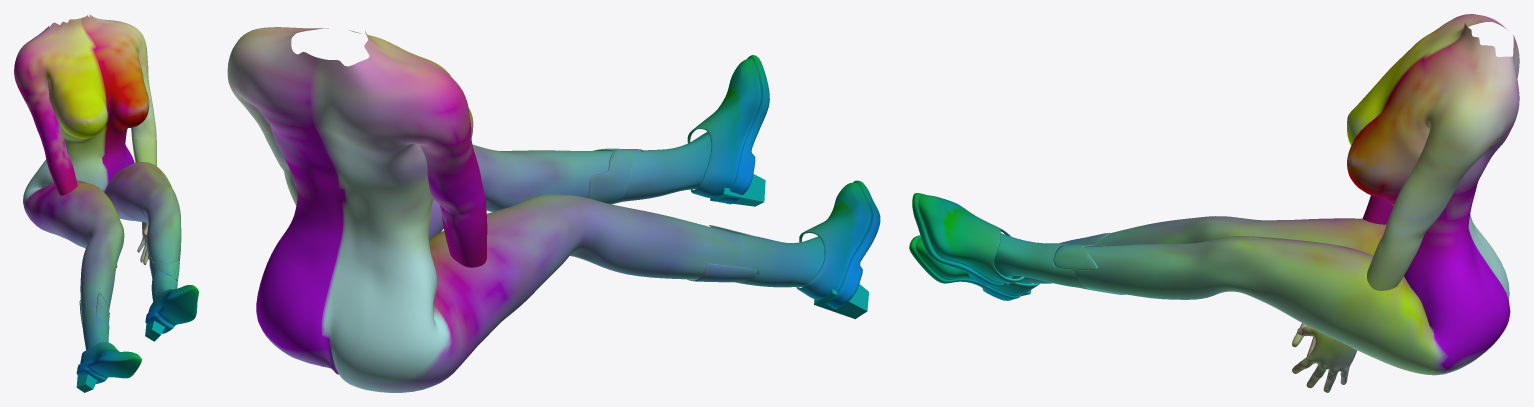
The model's file is lounge-legs-side.glb.
The picture shows the model from 3 angles, left to right: view 1: azimuth 30°, elevation 25°; view 2: azimuth 150°, elevation 25°; view 3: azimuth 270°, elevation 25°; orthographic projection. The views are drawn at different scales.
Parts seen in each view (by area): view 1: Human_baked, Human.shoes03_baked, shaft_baked, heel.R_baked, heel.L_baked; view 2: Human_baked, Human.shoes03_baked, shaft_baked, heel.R_baked, heel.L_baked; view 3: Human_baked, Human.shoes03_baked, shaft_baked.
Boxes of the visible parts, left/top/right/bottom form: Human_baked: left=14, top=14, right=181, bottom=316; Human.shoes03_baked: left=76, top=270, right=198, bottom=383; shaft_baked: left=79, top=257, right=179, bottom=326; heel.R_baked: left=76, top=364, right=96, bottom=392; heel.L_baked: left=145, top=321, right=164, bottom=341; Human_baked: left=227, top=27, right=741, bottom=392; Human.shoes03_baked: left=622, top=55, right=880, bottom=309; shaft_baked: left=587, top=148, right=759, bottom=282; heel.R_baked: left=814, top=284, right=868, bottom=319; heel.L_baked: left=710, top=174, right=765, bottom=206; Human_baked: left=1069, top=14, right=1519, bottom=392; Human.shoes03_baked: left=909, top=193, right=1087, bottom=300; shaft_baked: left=1053, top=232, right=1125, bottom=294.
Size of the model in its own units: 0.6859 by 0.7482 by 1.07.
